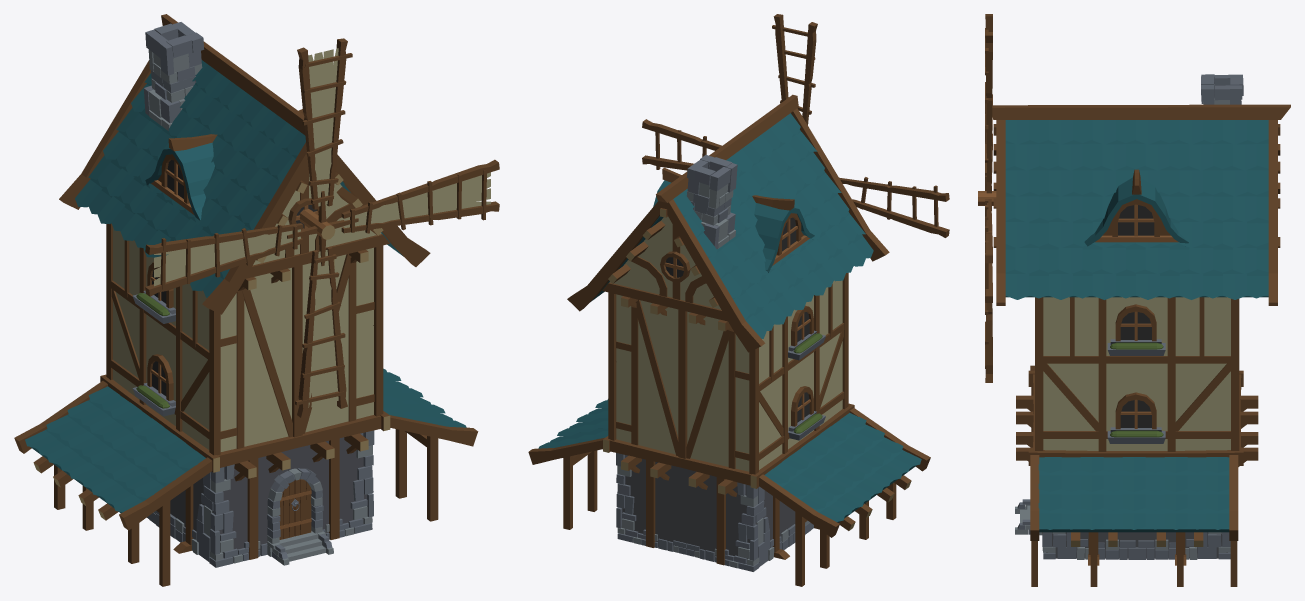
File: Mill.glb
The picture shows the model from 3 angles, left to right: view 1: azimuth 30°, elevation 25°; view 2: azimuth 150°, elevation 25°; view 3: azimuth 270°, elevation 25°; orthographic projection. The views are drawn at different scales.
Visible parts, largest first — view 1: Mill, Mill_Blades; view 2: Mill, Mill_Blades; view 3: Mill, Mill_Blades.
Part boxes in pixels (x1=…): Mill: x1=14, y1=14, x2=478, y2=586; Mill_Blades: x1=145, y1=38, x2=499, y2=417; Mill: x1=528, y1=94, x2=930, y2=586; Mill_Blades: x1=642, y1=14, x2=949, y2=237; Mill: x1=992, y1=74, x2=1290, y2=586; Mill_Blades: x1=978, y1=14, x2=996, y2=382.
Bounding box in the file's own units: 3.4 × 4.8 × 2.73.
